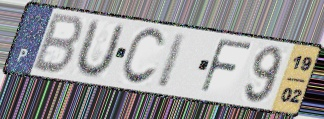9: (242, 44, 286, 105)
B: (29, 11, 87, 77)
C: (118, 26, 167, 88)
F: (197, 37, 255, 97)
I: (153, 31, 189, 90)
U: (71, 18, 127, 80)
